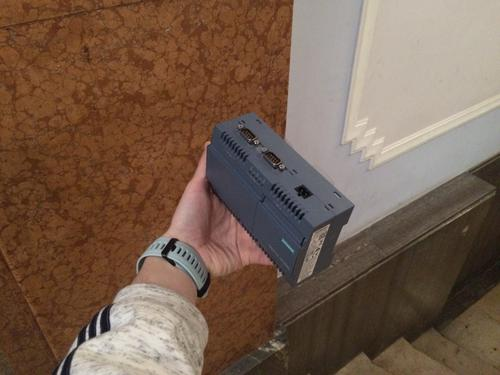iot2000: (205, 111, 356, 290)
